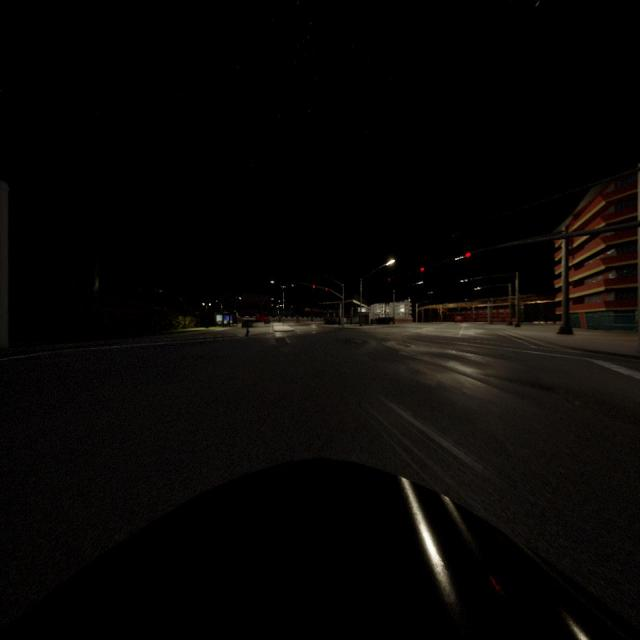Pedestrian: (246, 324, 249, 337)
Vehicle: (1, 459, 640, 640), (376, 317, 394, 324), (325, 318, 339, 325), (256, 315, 269, 322), (242, 320, 252, 328), (454, 313, 462, 322)
traffic_light: (465, 253, 470, 257), (420, 268, 424, 272), (325, 288, 328, 291), (313, 285, 315, 288), (388, 278, 390, 281)
